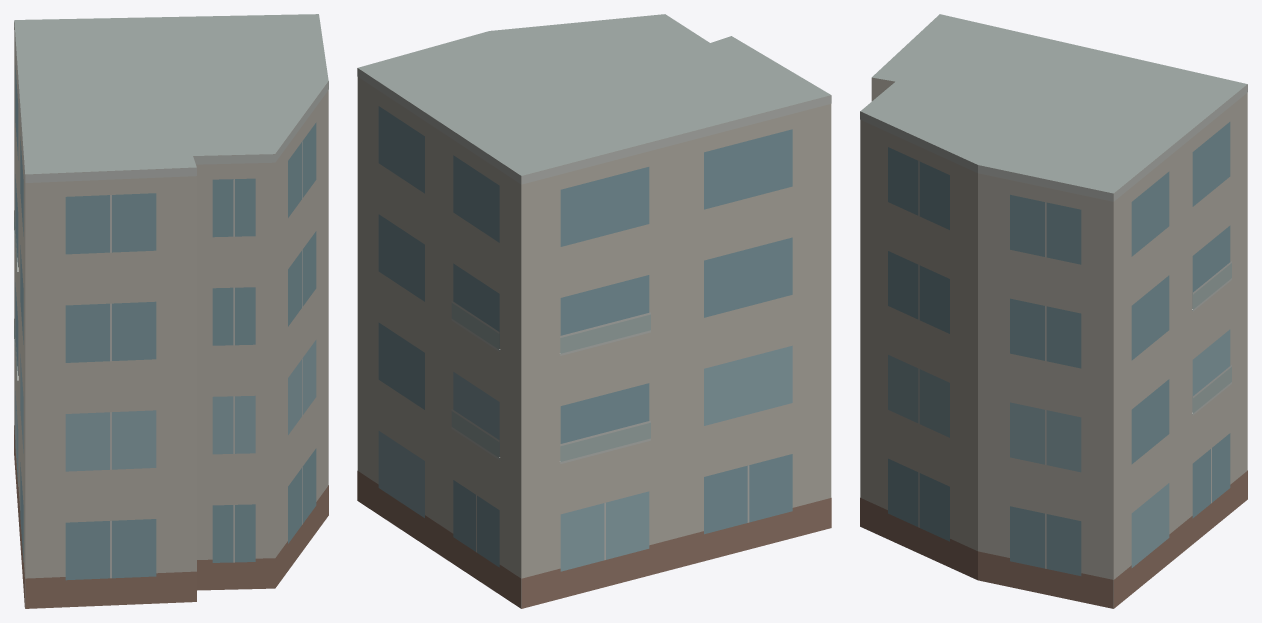
File: survey-upis-32730436.glb
The picture shows the model from 3 angles, left to right: view 1: azimuth 30°, elevation 25°; view 2: azimuth 150°, elevation 25°; view 3: azimuth 270°, elevation 25°; orthographic projection. The views are drawn at different scales.
Visible parts, largest first — view 1: survey-upis-32730436.tmp; view 2: survey-upis-32730436.tmp; view 3: survey-upis-32730436.tmp.
Boxes of the visible parts, x1,y1,x2,y2 form: survey-upis-32730436.tmp: (14,14,328,608); survey-upis-32730436.tmp: (357,14,831,608); survey-upis-32730436.tmp: (860,14,1247,608).
Size of the model in its own units: 11.32 by 12.2 by 10.32.
